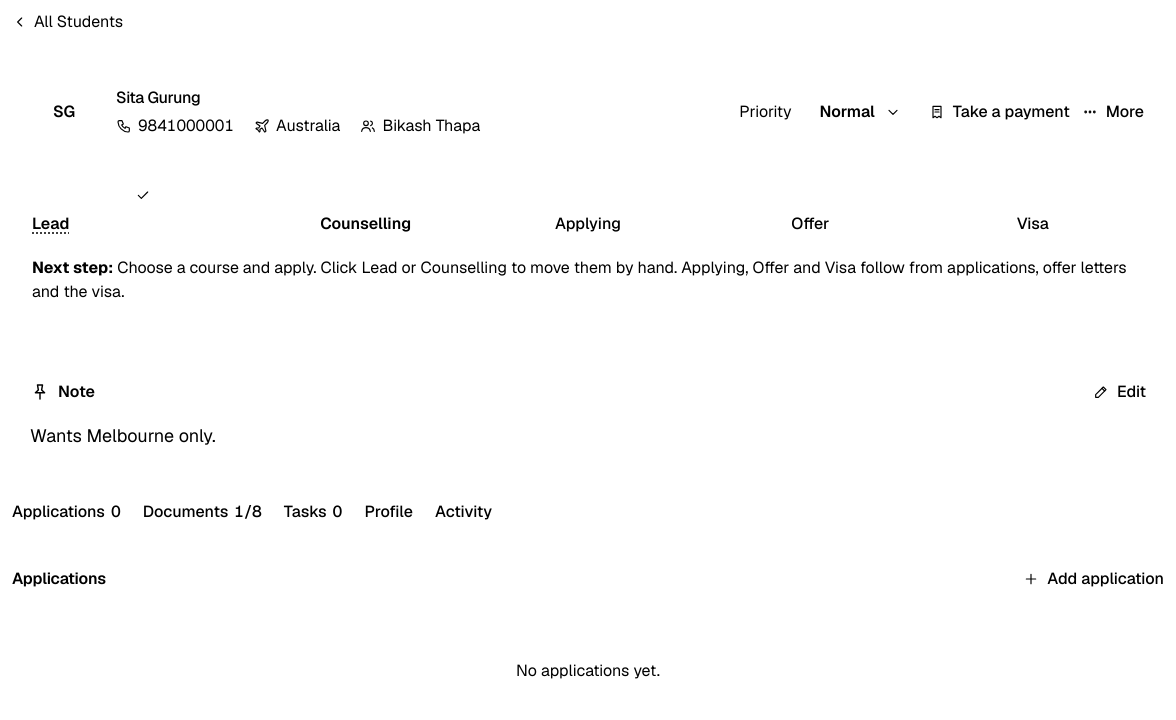
it: StudentProfilePage › shows the profile details
Click the tab "Profile" at (389, 512), box [364,490,413,534]
(page scrolled)
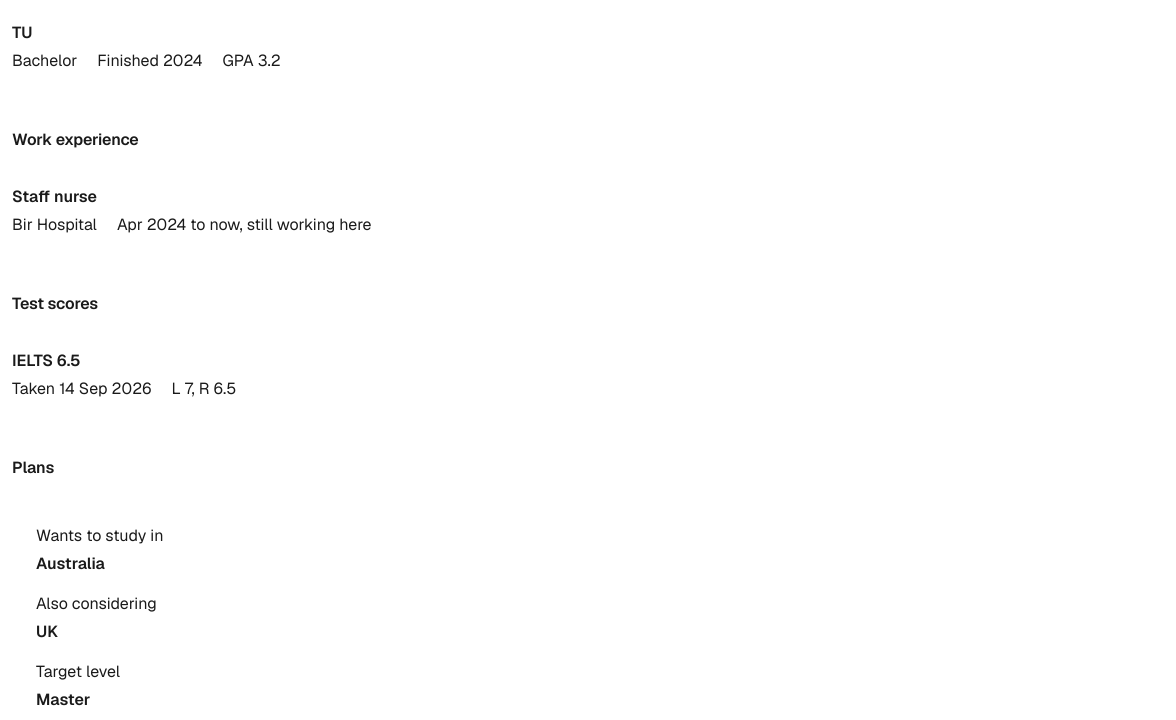
Result: the text "TU" is shown at [12,22,32,43]
Result: the text "GPA 3.2" is shown at [223,49,281,73]
Result: the text "IELTS 6.5" is shown at [12,350,80,371]
